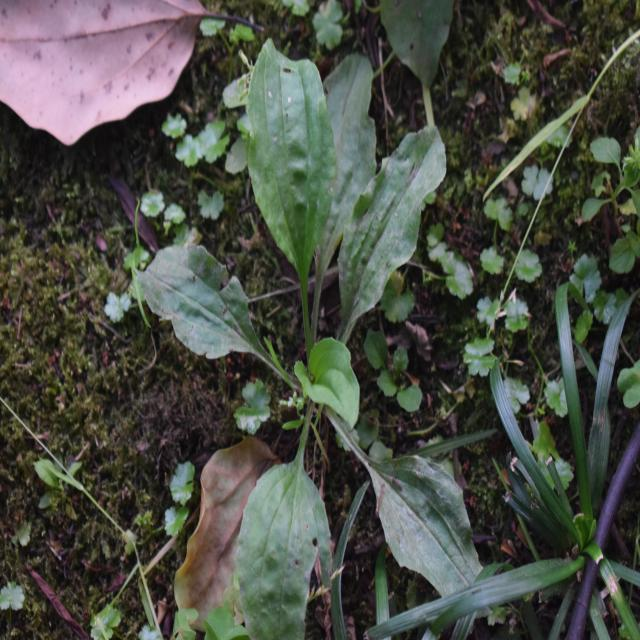plantain: (151, 55, 481, 578)
